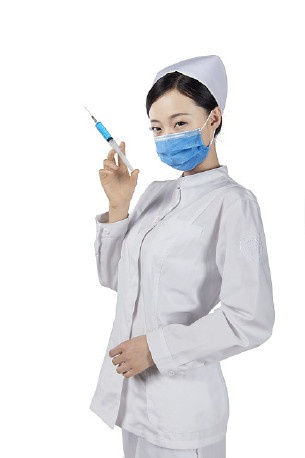Mask: (145, 107, 206, 167)
